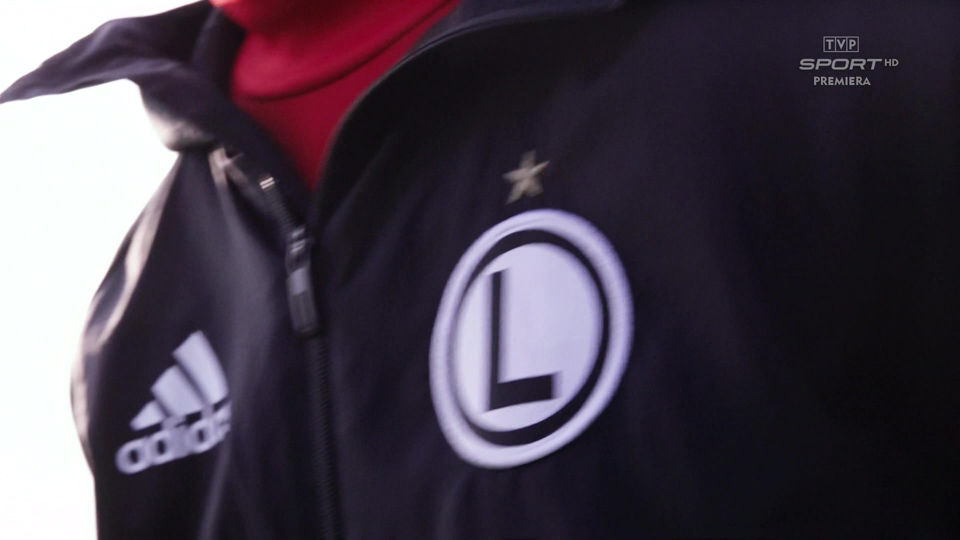Adidas: (106, 329, 232, 474)
